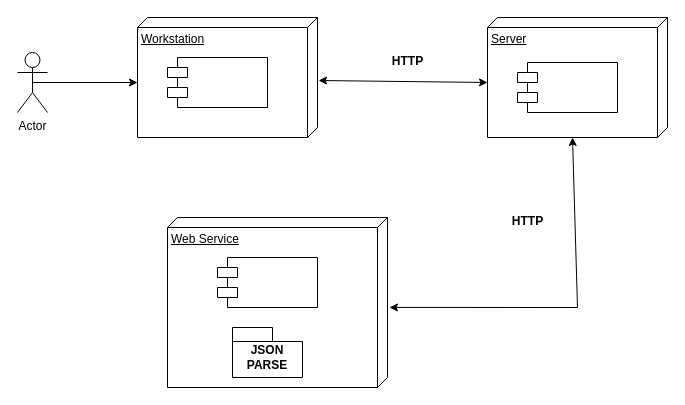
The diagram is 685 pixels wide and 405 high, and some of its shapes have lost their labels. The shapes that lost their labels are listed below. From the top down, each one's centre as x and y in pixels, then its label:
point (217, 82): Web Browser
point (567, 87): Intranet
point (267, 282): SQL INJECTOR
